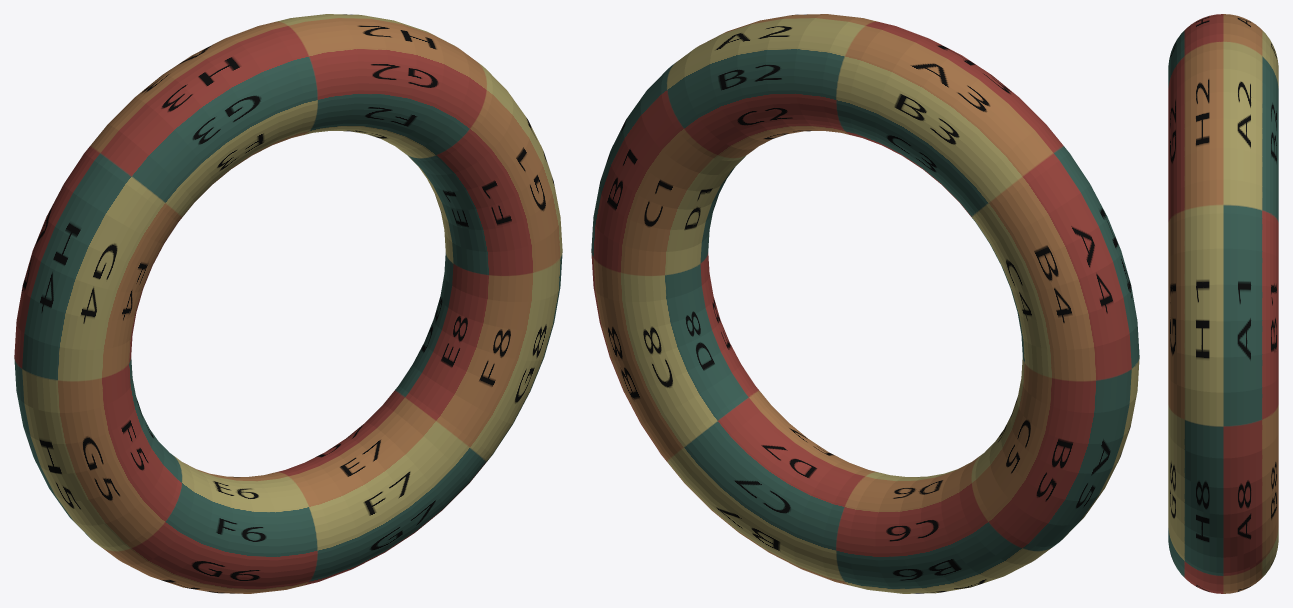
File: texture_torus_R8_r6.glb
The picture shows the model from 3 angles, left to right: view 1: azimuth 30°, elevation 25°; view 2: azimuth 150°, elevation 25°; view 3: azimuth 270°, elevation 25°; orthographic projection. The views are drawn at different scales.
Visible parts, largest first — view 1: world; view 2: world; view 3: world.
Part boxes in pixels (left/top/right/bottom): world: left=14, top=14, right=562, bottom=593; world: left=591, top=14, right=1139, bottom=593; world: left=1168, top=14, right=1278, bottom=593.
Size of the model in its own units: 18.93 by 18.9 by 3.59.
1 material, 1 textured.
